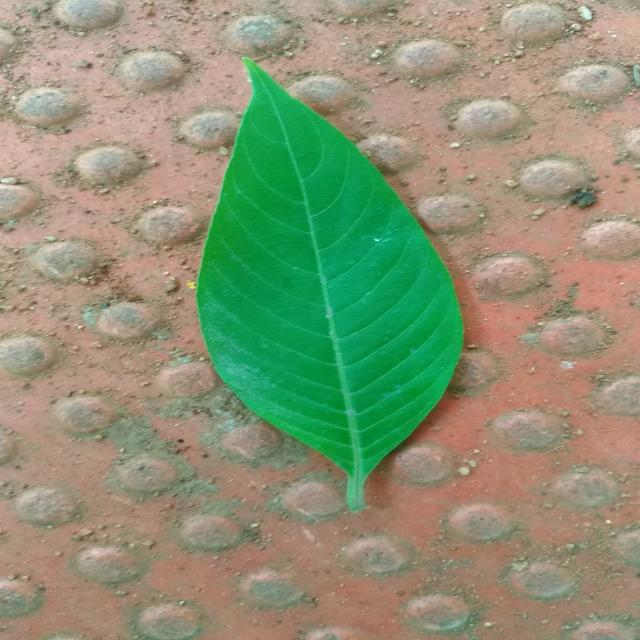malabar_nut: (198, 59, 462, 511)
